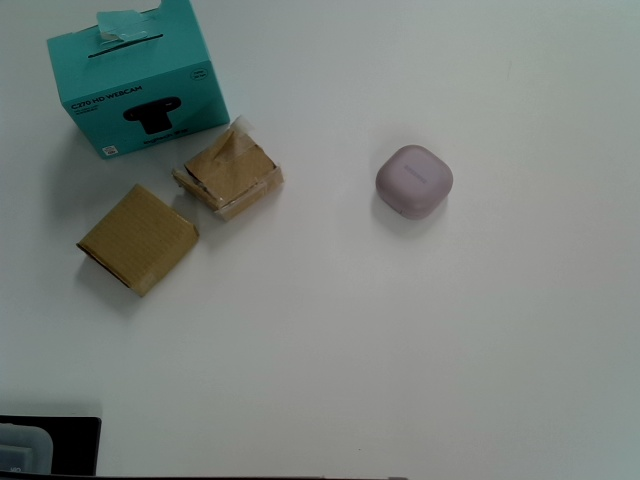defect: (172, 125, 285, 223)
normal: (76, 183, 200, 299)
